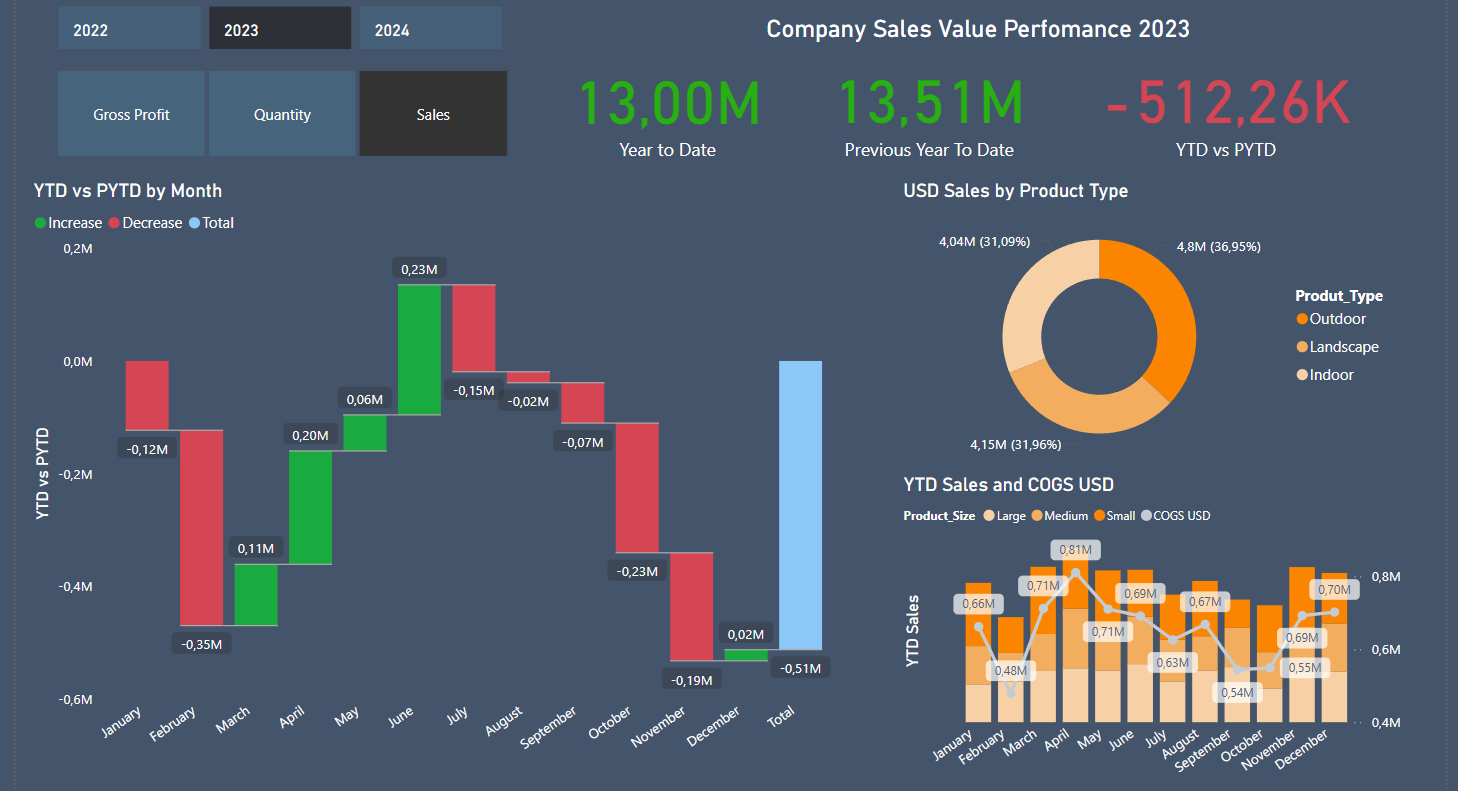

The page's visual inventory and layout, read from the dashboard file:
{"tool":"powerbi","page":{"name":"Main","canvas":[1280,720],"ordinal":0},"visuals":[{"type":"lineStackedColumnComboChart","title":"YTD Sales and COGS USD","fields":{"Category":["Dim_Date.Date.Variation.Date Hierarchy.Month"],"Series":["Dim_Product.Product_Size"],"Y":["_Measures.YTD_Sales"],"Y2":["Sum(Fact_Sales.COGS_USD)"]},"box":[789.8,428.9,456.2,290.8],"z":0},{"type":"donutChart","title":"USD Sales by Product Type","fields":{"Y":["Sum(Fact_Sales.Sales_USD)"],"Category":["Dim_Product.Produt_Type","Dim_Product.Product_Size"]},"box":[789.9,165.5,455.7,263.3],"z":1000},{"type":"card","fields":{"Values":["_Measures.S_YTD"]},"box":[473.7,48.6,219.8,105],"z":2000},{"type":"card","fields":{"Values":["_Measures.YTD vs PYTD"]},"box":[959,48.6,249,104.1],"z":3000},{"type":"card","fields":{"Values":["_Measures.S_PYTD"]},"box":[708.1,48.6,218.8,104.1],"z":4000},{"type":"slicer","fields":{"Values":["Slc_Values.Values"]},"box":[10.7,61.3,453.5,92.4],"z":5000},{"type":"waterfallChart","fields":{"Category":["Dim_Date.Date.Variation.Date Hierarchy.Month","Dim_Product.Produt_Type"],"Y":["_Measures.YTD vs PYTD"]},"box":[10.7,165.5,736.2,534.1],"z":6000},{"type":"advancedSlicerVisual","fields":{"Values":["Dim_Date.Date.Variation.Date Hierarchy.Year"]},"box":[33.1,5.8,407.5,48.6],"z":7000},{"type":"card","fields":{"Values":["_Measures._Report title"]},"box":[515.9,0,692.1,61.3],"z":8000}]}

Visuals, with their boxes in screenshot pixels (x1, y1, x2, y2):
"YTD Sales and COGS USD" lineStackedColumnComboChart: {"x1": 820, "y1": 430, "x2": 1314, "y2": 744}
"USD Sales by Product Type" donutChart: {"x1": 820, "y1": 145, "x2": 1313, "y2": 430}
card - _Measures.S_YTD: {"x1": 478, "y1": 18, "x2": 716, "y2": 132}
card - _Measures.YTD vs PYTD: {"x1": 1003, "y1": 18, "x2": 1273, "y2": 131}
card - _Measures.S_PYTD: {"x1": 732, "y1": 18, "x2": 968, "y2": 131}
slicer - Slc_Values.Values: {"x1": 0, "y1": 32, "x2": 468, "y2": 132}
waterfallChart - Dim_Date.Date.Variation.Date Hierarchy.Month x Dim_Product.Produt_Type: {"x1": 0, "y1": 145, "x2": 774, "y2": 723}
advancedSlicerVisual - Dim_Date.Date.Variation.Date Hierarchy.Year: {"x1": 2, "y1": 0, "x2": 442, "y2": 25}
card - _Measures._Report title: {"x1": 524, "y1": 0, "x2": 1273, "y2": 32}
